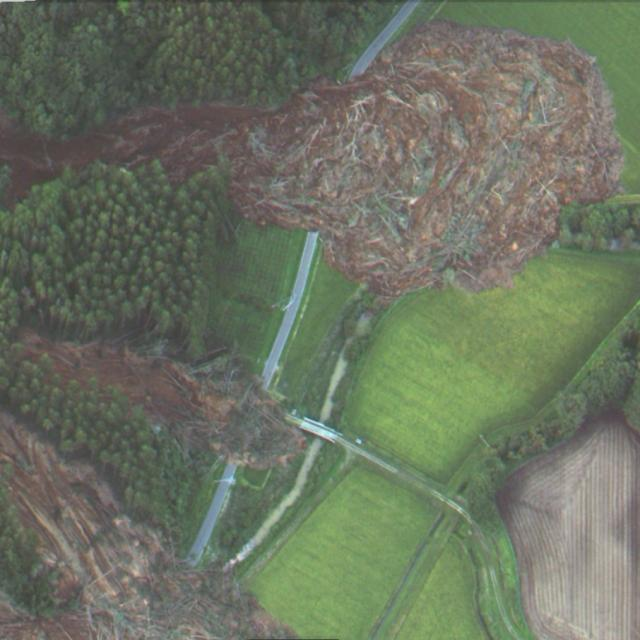landslide: (0, 21, 624, 295), (0, 414, 286, 639), (30, 345, 239, 431)
